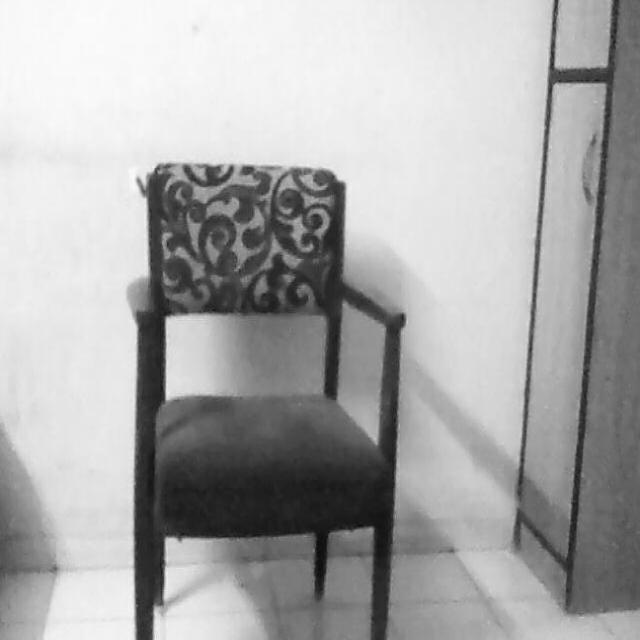chair ahead at: (124, 153, 402, 640)
